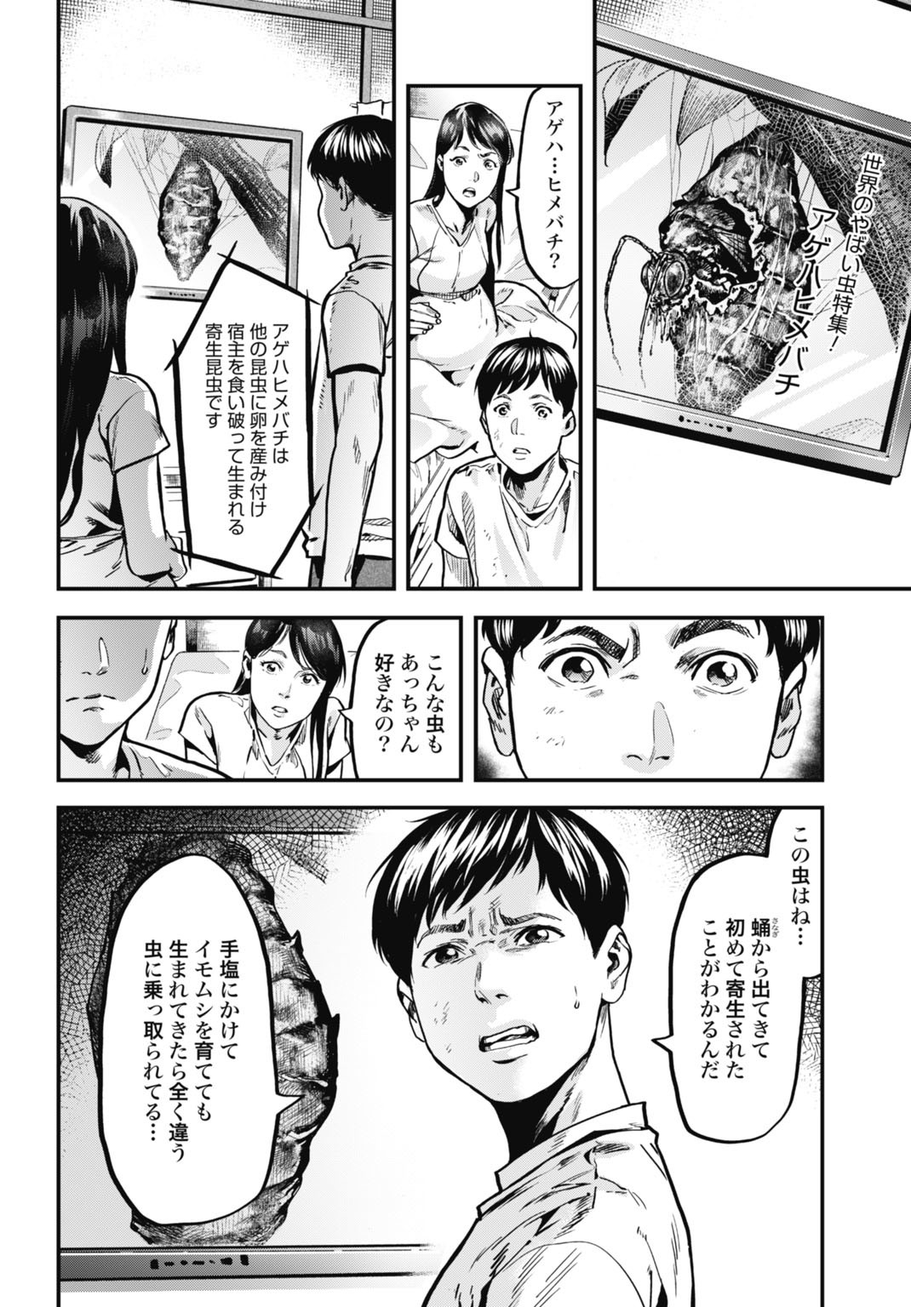bubbles: (89, 847, 308, 1233), (646, 810, 825, 1149), (158, 235, 324, 582), (336, 622, 464, 781), (504, 87, 583, 294)
